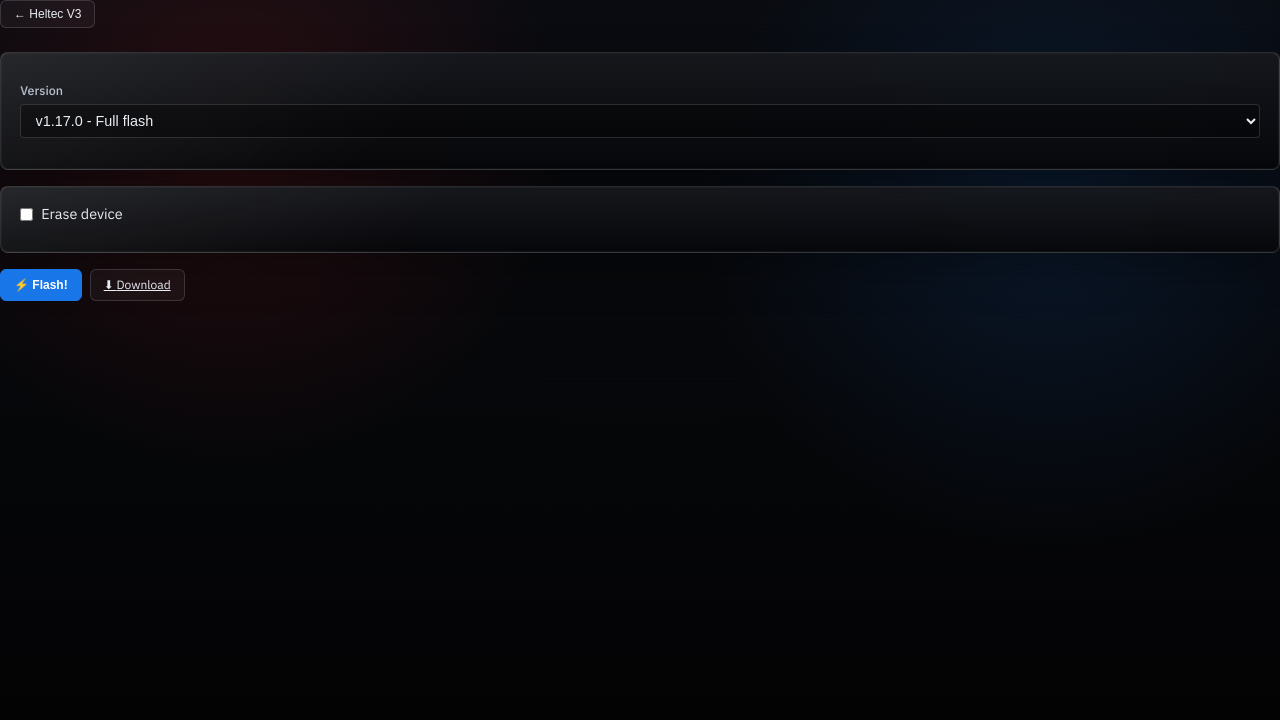
Test: FlashOptions › does NOT warn about merged when the observer version is a Full flash (merged)
The width and height of the screenshot is (1280, 720).
Step 1. Click the button "⚡ Flash!" → coordinates (41, 285), box 0,269 -> 82,301
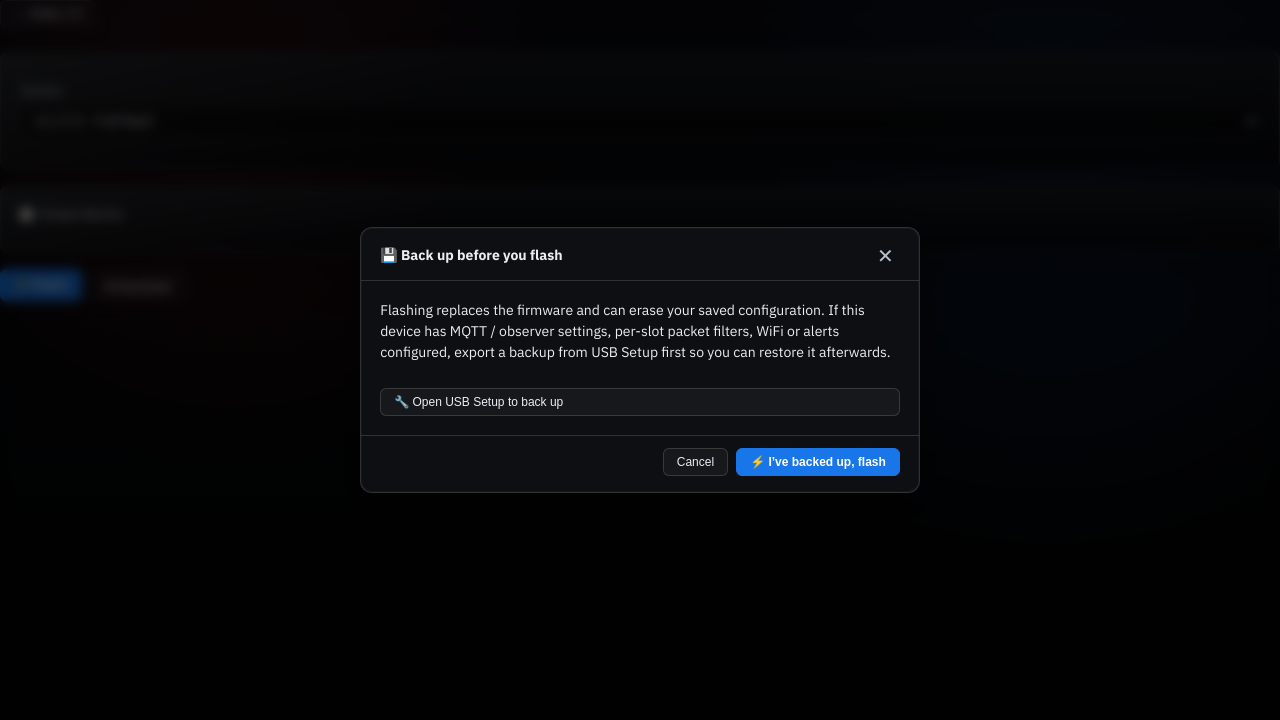
Check: the text "💾 Back up before you flash" is shown, box 380,245 -> 563,266
